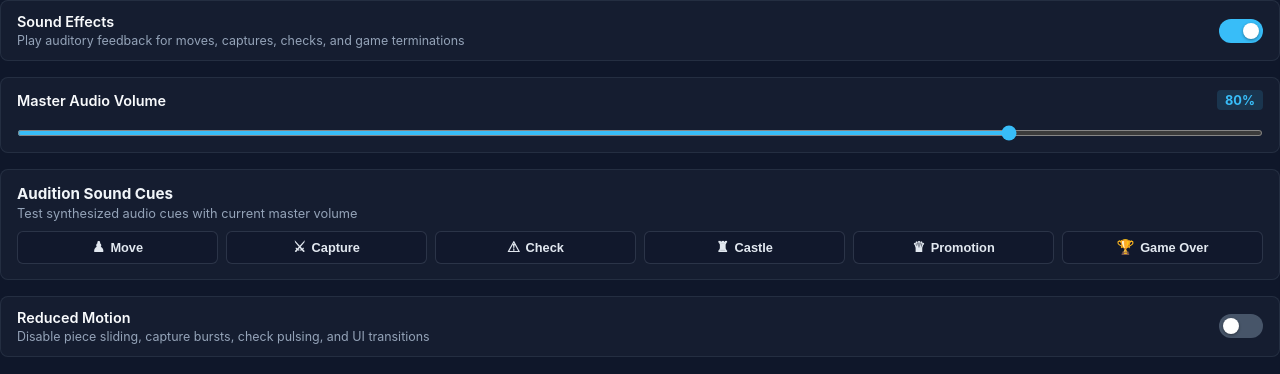
Scenario: Audio & Motion Settings UI Component Tests (TC-SET-01 to TC-SET-04) › TC-SET-02: Adjusting Master Volume slider updates volume percentage badge
Check: the text with test id "volume-value-badge" reads "80%", box [1225,93,1255,108]
Set the slider with test id "slider-volume" to "45". click: (578, 133)
box: [17,130,1263,136]
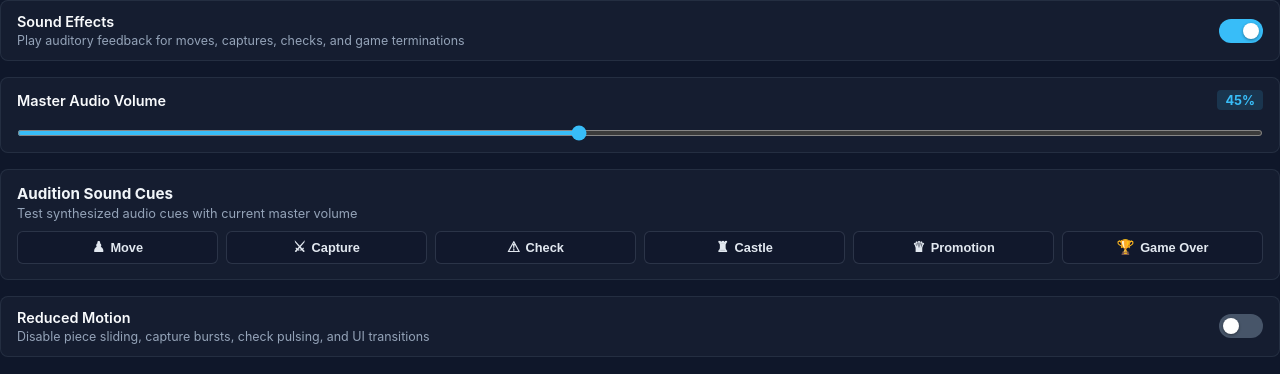
Check: the text with test id "volume-value-badge" reads "45%", box [1225,93,1255,108]
